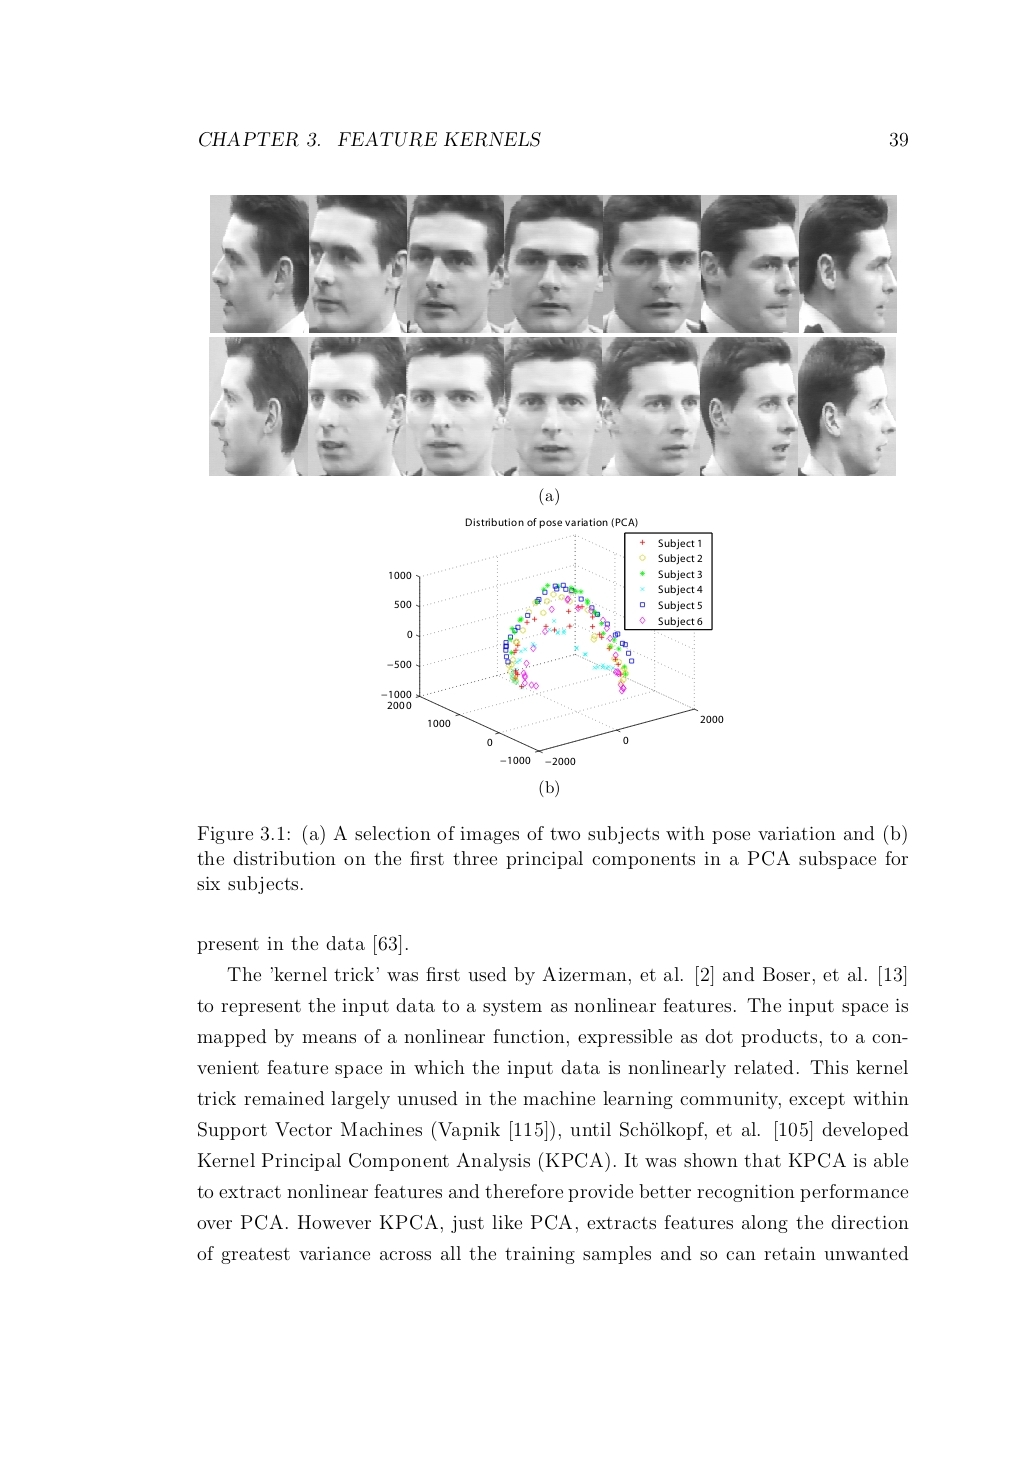figure: (209, 335, 895, 476), (210, 194, 896, 334), (380, 531, 723, 754)
